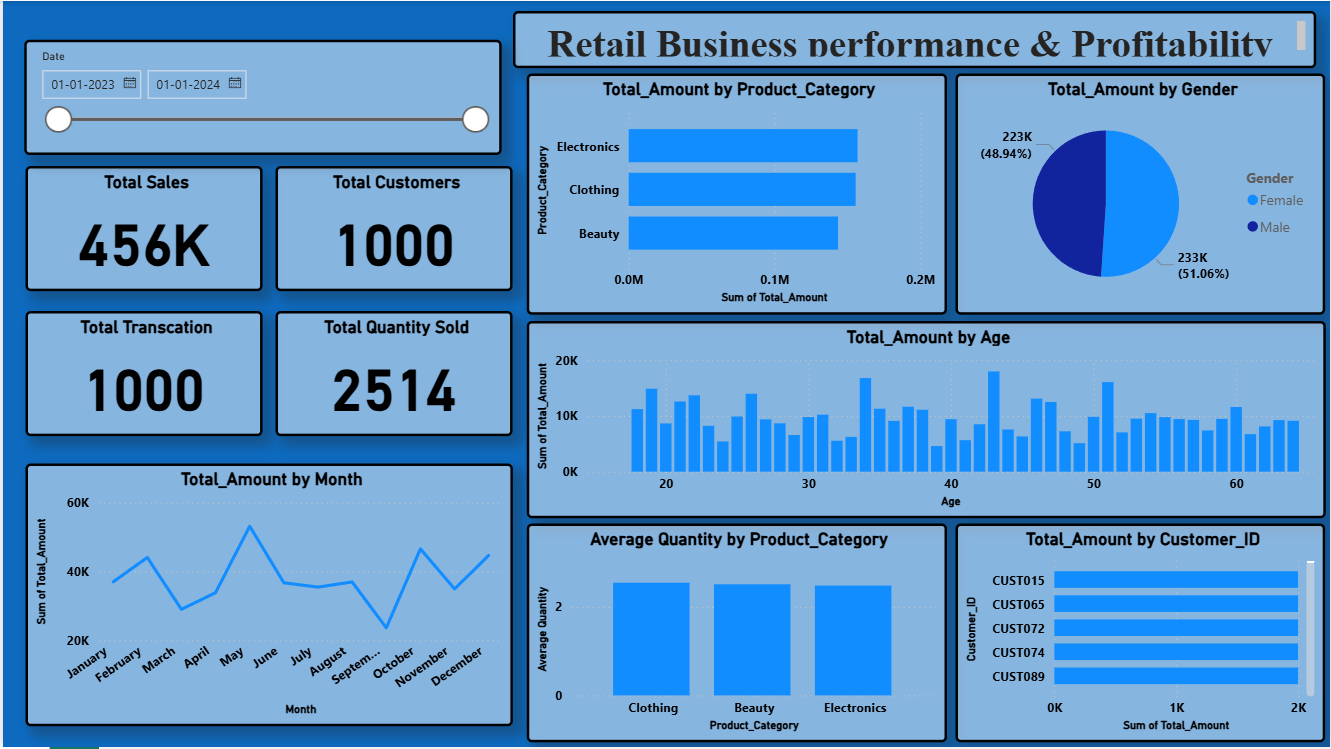

Layout of this report page (visuals, bound fields, positions):
{"tool":"powerbi","page":{"name":"Page 1","canvas":[1280,720],"ordinal":0},"visuals":[{"type":"card","title":"Total Sales","fields":{"Values":["Sum(Cleaned Retail sales dataset.Total_Amount)"]},"box":[22,159.2,229.2,120.8],"z":0},{"type":"card","title":"Total Transcation","fields":{"Values":["CountNonNull(Cleaned Retail sales dataset.Transaction_ID)"]},"box":[22,299.1,229.2,120.8],"z":1000},{"type":"card","title":"Total Customers","fields":{"Values":["Count(Cleaned Retail sales dataset.Transaction_ID)"]},"box":[263.5,159.2,229.2,120.8],"z":2000},{"type":"card","title":"Total Quantity Sold","fields":{"Values":["Sum(Cleaned Retail sales dataset.Quantity)"]},"box":[263.5,299.1,229.2,120.8],"z":3000},{"type":"lineChart","title":" Total_Amount by Month","fields":{"Y":["Sum(Cleaned Retail sales dataset.Total_Amount)"],"Category":["Cleaned Retail sales dataset.Date.Variation.Date Hierarchy.Month"]},"box":[22,446,470.7,253.9],"z":4000},{"type":"textbox","box":[492.6,9.6,775.3,54.9],"z":5000},{"type":"clusteredBarChart","title":"Total_Amount by Product_Category","fields":{"Category":["Cleaned Retail sales dataset.Product_Category"],"Y":["Sum(Cleaned Retail sales dataset.Total_Amount)"]},"box":[505.5,70,405.4,232.8],"z":6000},{"type":"pieChart","title":"Total_Amount by Gender","fields":{"Category":["Cleaned Retail sales dataset.Gender"],"Y":["Sum(Cleaned Retail sales dataset.Total_Amount)"]},"box":[919.3,70,357.1,232.8],"z":7000},{"type":"columnChart","title":"Total_Amount by Age","fields":{"Category":["Cleaned Retail sales dataset.Age"],"Y":["Sum(Cleaned Retail sales dataset.Total_Amount)"]},"box":[505.5,308.8,770.9,190.6],"z":8000},{"type":"columnChart","fields":{"Category":["Cleaned Retail sales dataset.Product_Category"],"Y":["Cleaned Retail sales dataset.Average Quantity"]},"box":[505.5,504.3,405.4,211.1],"z":9000},{"type":"clusteredBarChart","title":"Total_Amount by Customer_ID","fields":{"Category":["Cleaned Retail sales dataset.Customer_ID"],"Y":["Sum(Cleaned Retail sales dataset.Total_Amount)"]},"box":[919.3,504.3,357.1,211.1],"z":10000},{"type":"slicer","fields":{"Values":["Cleaned Retail sales dataset.Date"]},"box":[20.5,37.4,460.9,111],"z":11000}]}

Visuals, with their boxes in screenshot pixels (x1, y1, x2, y2), scaled from the page's 1280x720 canvas onto the 1331x749 screenshot:
"Total Sales" card: Rect(23, 166, 261, 291)
"Total Transcation" card: Rect(23, 311, 261, 437)
"Total Customers" card: Rect(274, 166, 512, 291)
"Total Quantity Sold" card: Rect(274, 311, 512, 437)
" Total_Amount by Month" lineChart: Rect(23, 464, 512, 728)
textbox: Rect(512, 10, 1318, 67)
"Total_Amount by Product_Category" clusteredBarChart: Rect(526, 73, 947, 315)
"Total_Amount by Gender" pieChart: Rect(956, 73, 1327, 315)
"Total_Amount by Age" columnChart: Rect(526, 321, 1327, 520)
columnChart - Cleaned Retail sales dataset.Product_Category x Cleaned Retail sales dataset.Average Quantity: Rect(526, 525, 947, 744)
"Total_Amount by Customer_ID" clusteredBarChart: Rect(956, 525, 1327, 744)
slicer - Cleaned Retail sales dataset.Date: Rect(21, 39, 501, 154)
